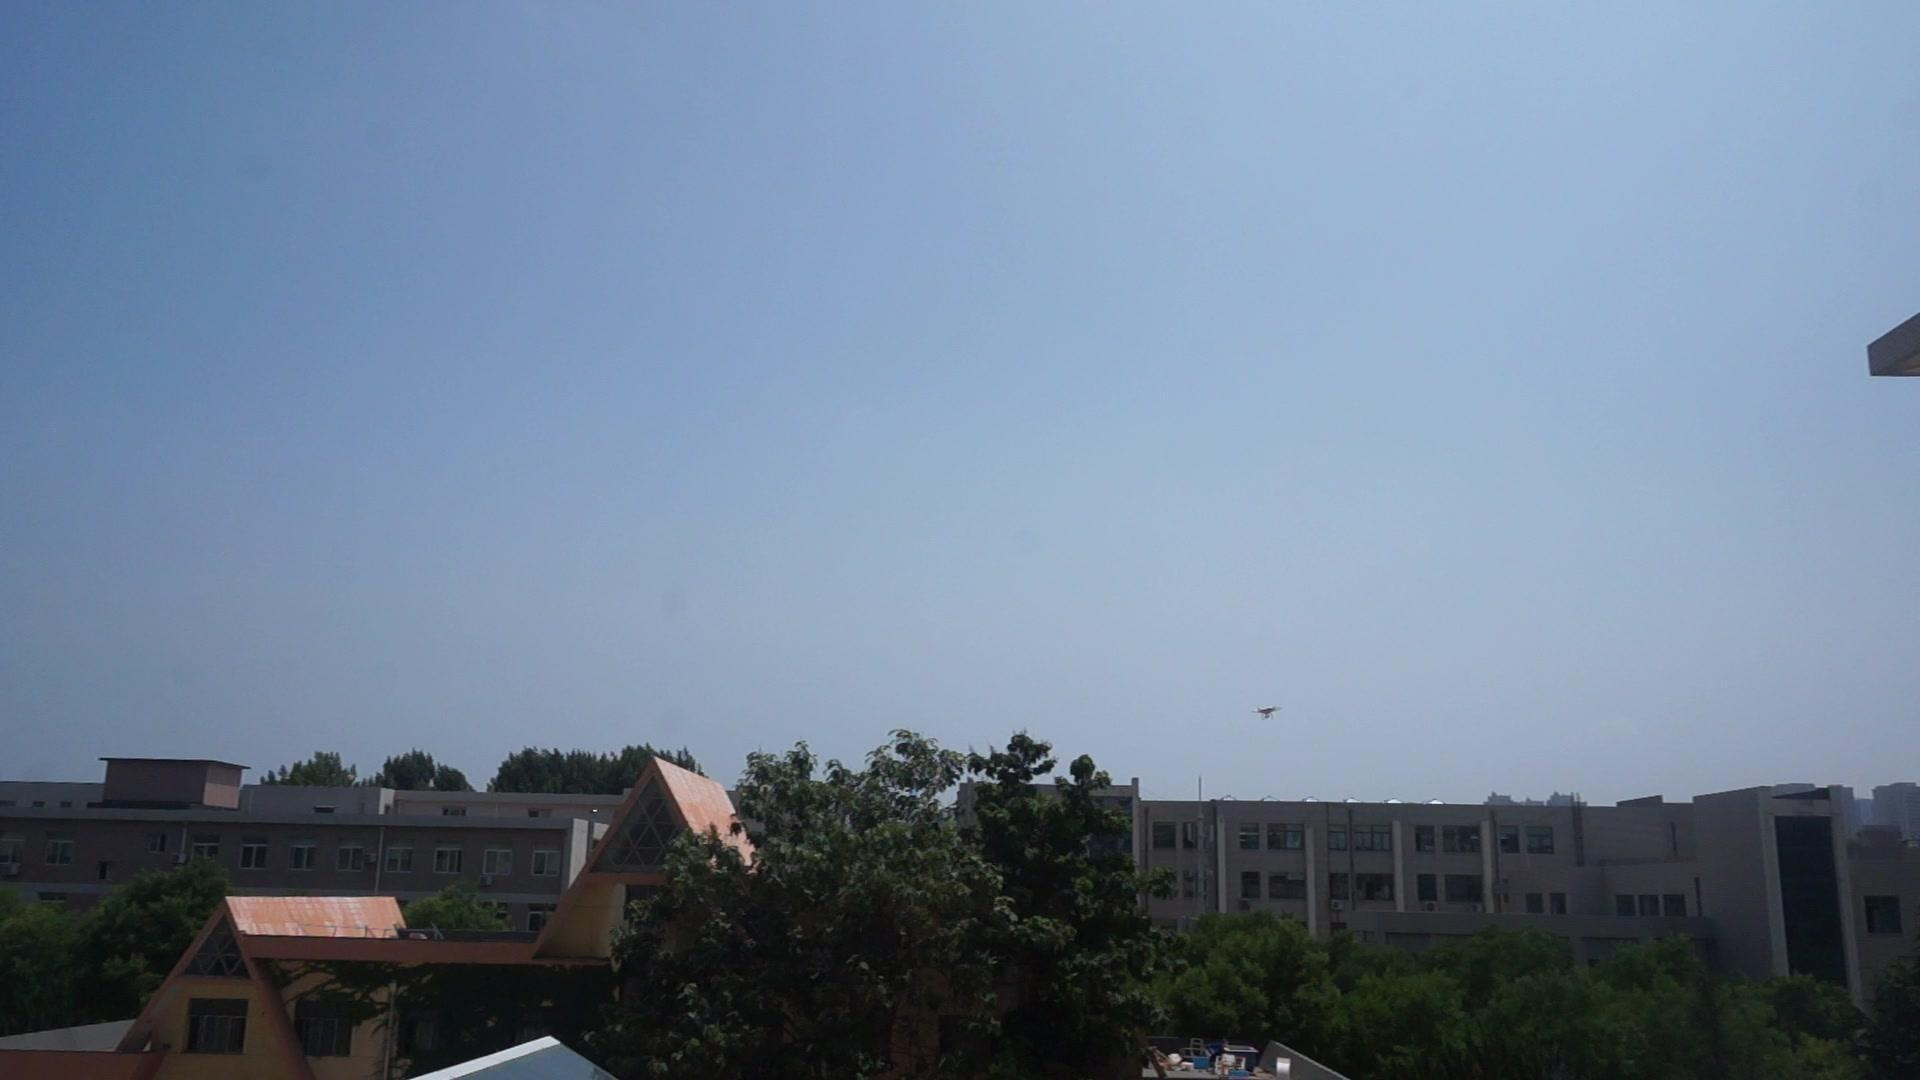UAV: (1251, 707, 1284, 721)
